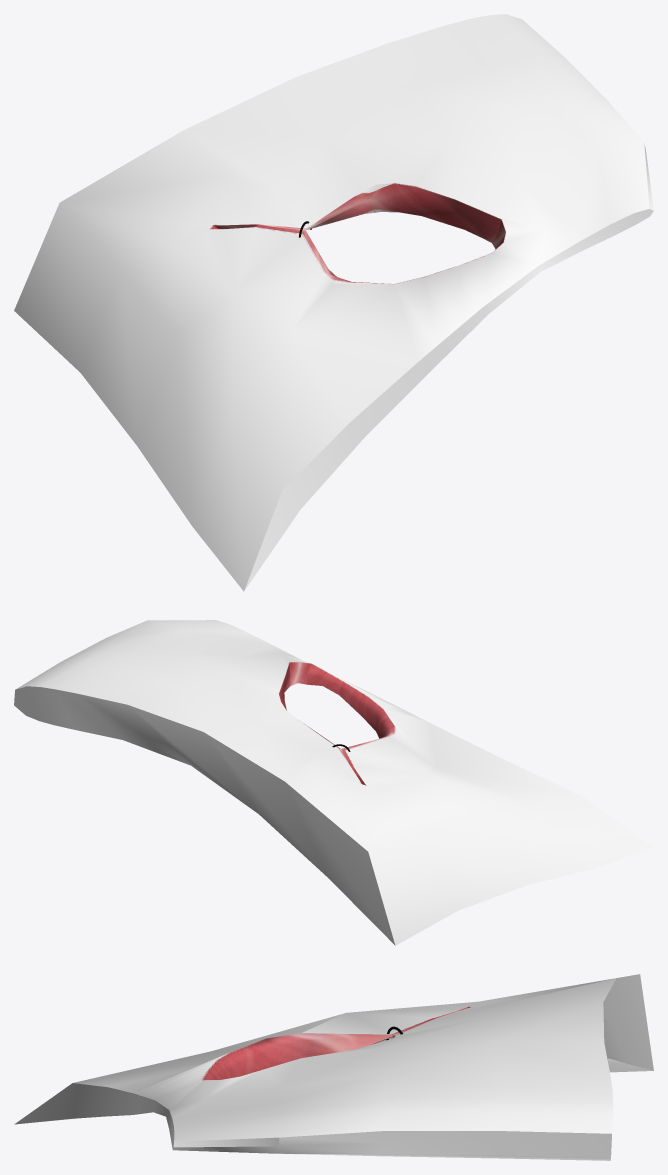
File: aponevroz seam 2.FBX
3 views of the same model, one above another, from view 1: azimuth 30°, elevation 25°; view 2: azimuth 150°, elevation 25°; view 3: azimuth 270°, elevation 25° (orthographic). The views are drawn at different scales.
Parts seen in each view (by area): view 1: aponevroz seam 2; view 2: aponevroz seam 2; view 3: aponevroz seam 2.
Part boxes in pixels (x1,y1,x2,y2): aponevroz seam 2: [14, 14, 653, 591]; aponevroz seam 2: [14, 620, 653, 945]; aponevroz seam 2: [14, 974, 653, 1160].
Size of the model in its own units: 90.75 by 43.05 by 80.56.
